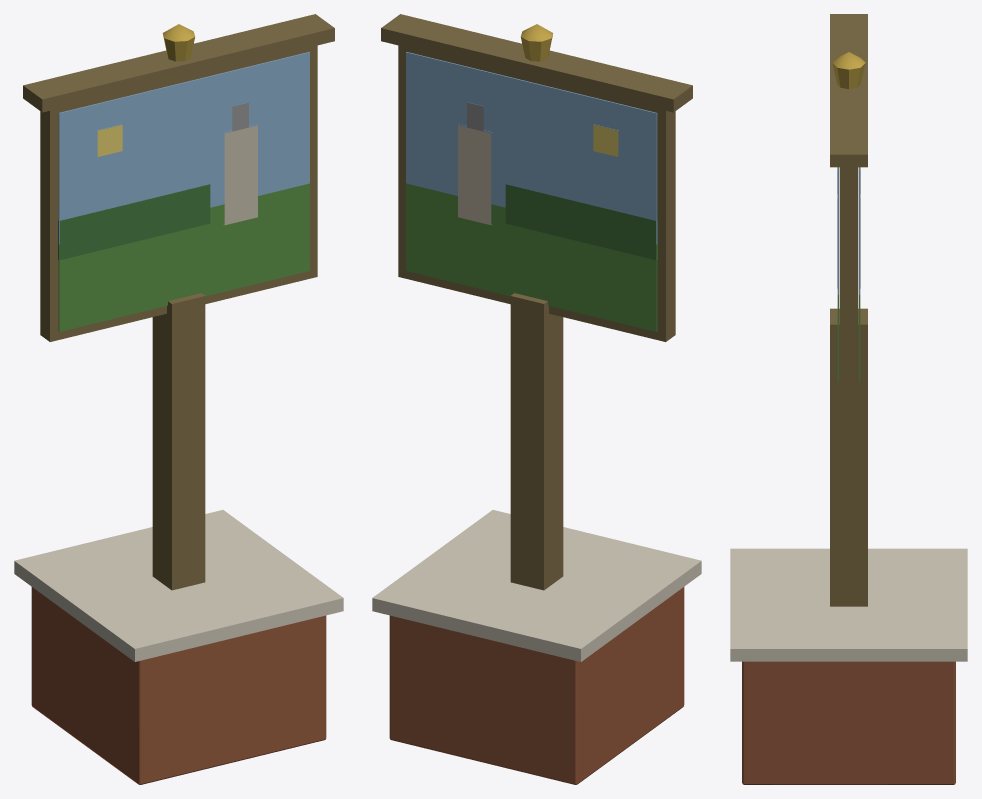
The model's file is street.furniture.village_sign_a.glb.
3 views of the same model, side by side, from view 1: azimuth 30°, elevation 25°; view 2: azimuth 150°, elevation 25°; view 3: azimuth 270°, elevation 25° (orthographic).
Visible parts, largest first — view 1: main__concrete_954, main__timber_764, main__paint_8ac, main__concrete_ccb, main__paint_584, main__paint_474, main__paint_cba, main__paint_b94, main__paint_dc6; view 2: main__concrete_954, main__timber_764, main__paint_8ac, main__concrete_ccb, main__paint_584, main__paint_474, main__paint_cba, main__paint_b94, main__paint_dc6; view 3: main__concrete_954, main__concrete_ccb, main__timber_764, main__paint_b94, main__paint_8ac.
Boxes of the visible parts, x1=… form: main__concrete_954: x1=31, y1=587, x2=326, y2=784; main__timber_764: x1=23, y1=14, x2=334, y2=590; main__paint_8ac: x1=58, y1=52, x2=309, y2=244; main__concrete_ccb: x1=14, y1=510, x2=343, y2=661; main__paint_584: x1=58, y1=183, x2=309, y2=331; main__paint_474: x1=58, y1=184, x2=210, y2=259; main__paint_cba: x1=224, y1=124, x2=257, y2=225; main__paint_b94: x1=162, y1=24, x2=195, y2=61; main__paint_dc6: x1=97, y1=124, x2=122, y2=156; main__concrete_954: x1=389, y1=587, x2=684, y2=784; main__timber_764: x1=381, y1=14, x2=692, y2=590; main__paint_8ac: x1=406, y1=52, x2=657, y2=244; main__concrete_ccb: x1=372, y1=510, x2=701, y2=661; main__paint_584: x1=406, y1=183, x2=657, y2=331; main__paint_474: x1=505, y1=184, x2=657, y2=259; main__paint_cba: x1=458, y1=124, x2=491, y2=225; main__paint_b94: x1=520, y1=24, x2=553, y2=61; main__paint_dc6: x1=593, y1=124, x2=618, y2=156; main__concrete_954: x1=742, y1=661, x2=955, y2=784; main__concrete_ccb: x1=730, y1=548, x2=967, y2=661; main__timber_764: x1=830, y1=14, x2=867, y2=606; main__paint_b94: x1=832, y1=52, x2=865, y2=89; main__paint_8ac: x1=837, y1=167, x2=860, y2=294.
Size of the model in its own units: 1.4 by 3.2 by 1.
